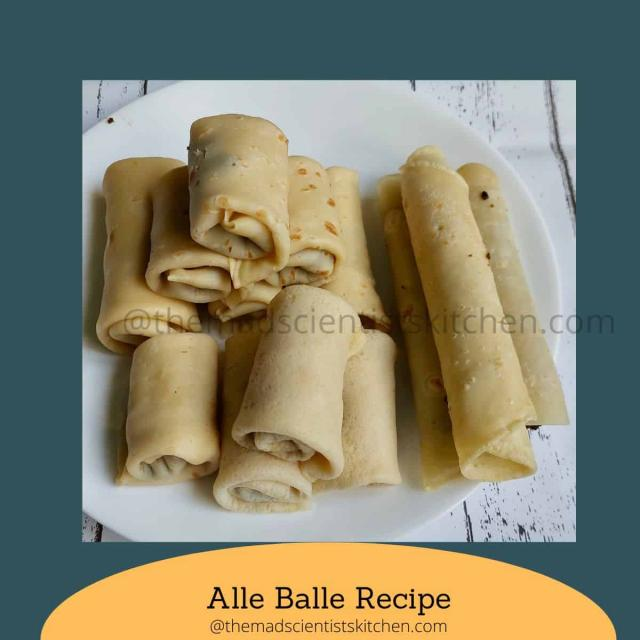ROTI: (401, 148, 536, 482), (458, 163, 568, 426), (232, 285, 362, 478), (380, 176, 459, 489), (96, 157, 199, 354), (188, 114, 290, 288), (213, 333, 310, 512), (118, 333, 220, 483), (321, 329, 401, 489), (145, 166, 229, 303), (321, 166, 389, 331), (288, 156, 343, 286)
